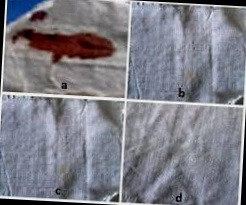blood: (11, 24, 116, 65)
